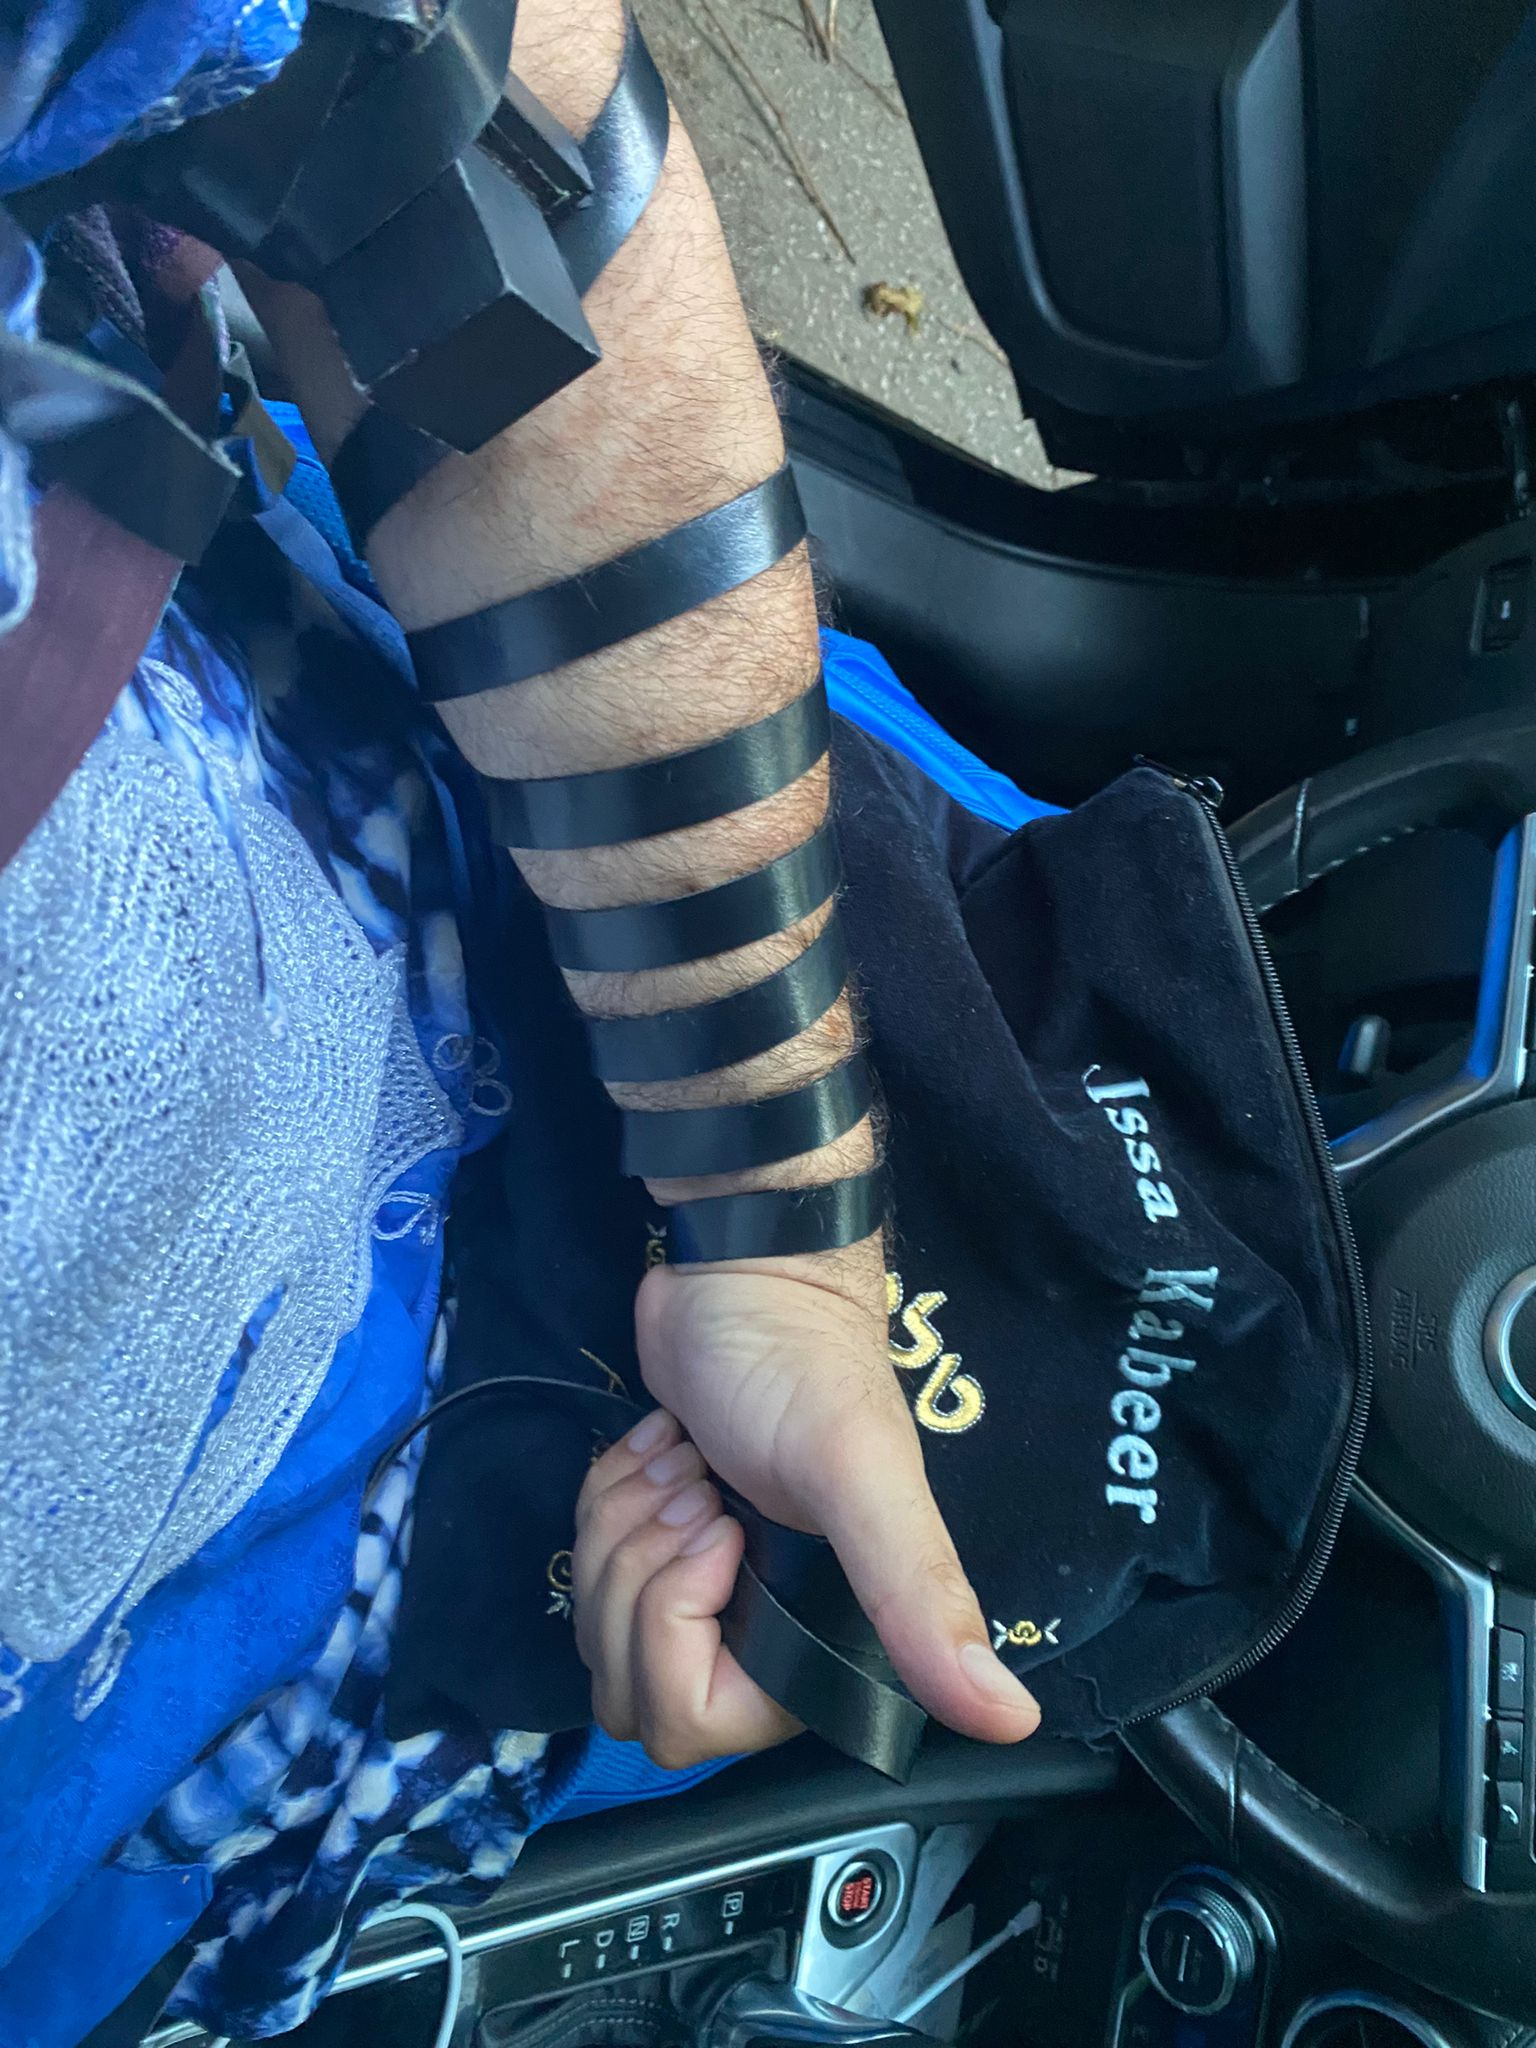tefillin: (290, 27, 595, 458)
